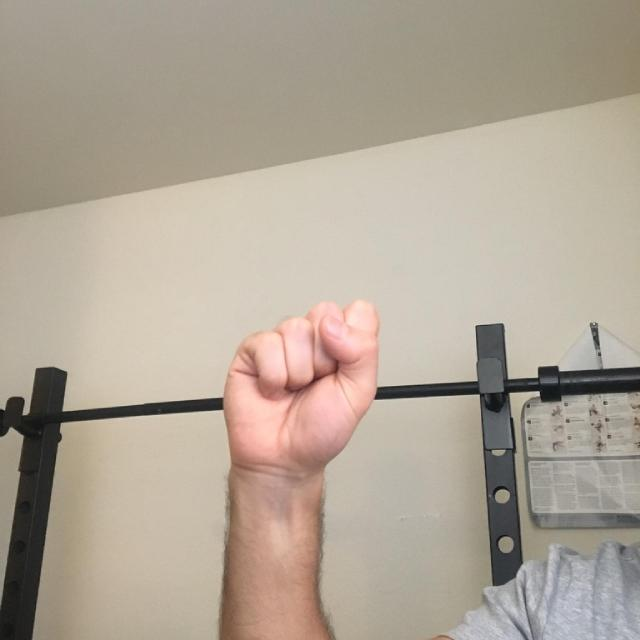S: (209, 267, 418, 526)
